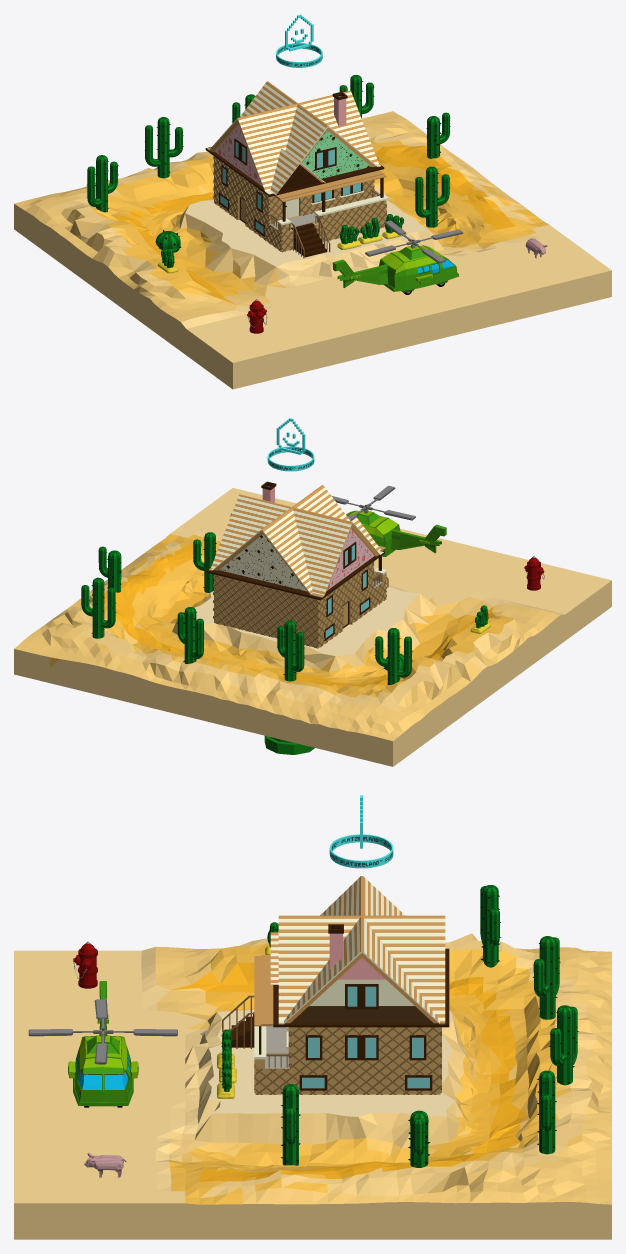
The picture shows the model from 3 angles, top to bottom: view 1: azimuth 30°, elevation 25°; view 2: azimuth 150°, elevation 25°; view 3: azimuth 270°, elevation 25°; orthographic projection. The views are drawn at different scales.
Visible parts, largest first — view 1: Cube.001, Cube.1102, VEHICLES_HELICOPTER, Cylinder.044, Cylinder.037, Cylinder.045, TYPE_PREMIUM, Cylinder.038, Cylinder.042; view 2: Cube.001, Cube.1102, VEHICLES_HELICOPTER, Cylinder.042, Cylinder.045, Cylinder.044, Cylinder.043, TYPE_PREMIUM, Cylinder.037, Cylinder.038, UNDERGROUND_PIPES, OBJRANDOM_FIRE_HYDRANT; view 3: Cube.001, Cube.1102, VEHICLES_HELICOPTER, Cylinder.044, Cylinder.043, Cylinder.045, Cylinder.042, Cylinder.037, TYPE_PREMIUM, Cylinder.038, OBJRANDOM_FIRE_HYDRANT, ANIMAL_CERDO.
Boxes of the visible parts, left/top/right/bottom form: Cube.001: left=14, top=111, right=611, bottom=389; Cube.1102: left=205, top=81, right=388, bottom=258; VEHICLES_HELICOPTER: left=332, top=220, right=463, bottom=294; Cylinder.044: left=145, top=117, right=183, bottom=178; Cylinder.037: left=415, top=166, right=449, bottom=227; Cylinder.045: left=87, top=155, right=118, bottom=212; TYPE_PREMIUM: left=276, top=14, right=322, bottom=67; Cylinder.038: left=426, top=112, right=450, bottom=158; Cylinder.042: left=339, top=75, right=374, bottom=118; Cube.001: left=14, top=488, right=611, bottom=766; Cube.1102: left=206, top=481, right=388, bottom=648; VEHICLES_HELICOPTER: left=331, top=485, right=446, bottom=556; Cylinder.042: left=81, top=577, right=116, bottom=638; Cylinder.045: left=374, top=628, right=412, bottom=684; Cylinder.044: left=277, top=620, right=304, bottom=681; Cylinder.043: left=177, top=607, right=203, bottom=663; TYPE_PREMIUM: left=267, top=418, right=314, bottom=471; Cylinder.037: left=193, top=532, right=220, bottom=592; Cylinder.038: left=98, top=546, right=121, bottom=592; UNDERGROUND_PIPES: left=264, top=736, right=314, bottom=754; OBJRANDOM_FIRE_HYDRANT: left=524, top=556, right=544, bottom=590; Cube.001: left=14, top=933, right=611, bottom=1239; Cube.1102: left=222, top=876, right=449, bottom=1094; VEHICLES_HELICOPTER: left=28, top=981, right=177, bottom=1107; Cylinder.044: left=533, top=936, right=560, bottom=1019; Cylinder.043: left=549, top=1005, right=578, bottom=1085; Cylinder.045: left=480, top=885, right=500, bottom=967; Cylinder.042: left=537, top=1070, right=556, bottom=1154; Cylinder.037: left=281, top=1084, right=300, bottom=1165; TYPE_PREMIUM: left=329, top=795, right=393, bottom=868; Cylinder.038: left=408, top=1110, right=429, bottom=1167; OBJRANDOM_FIRE_HYDRANT: left=73, top=941, right=97, bottom=988; ANIMAL_CERDO: left=84, top=1153, right=126, bottom=1177.
Size of the model in its own units: 4002 by 3021 by 4001.
32 materials, 4 textured.
